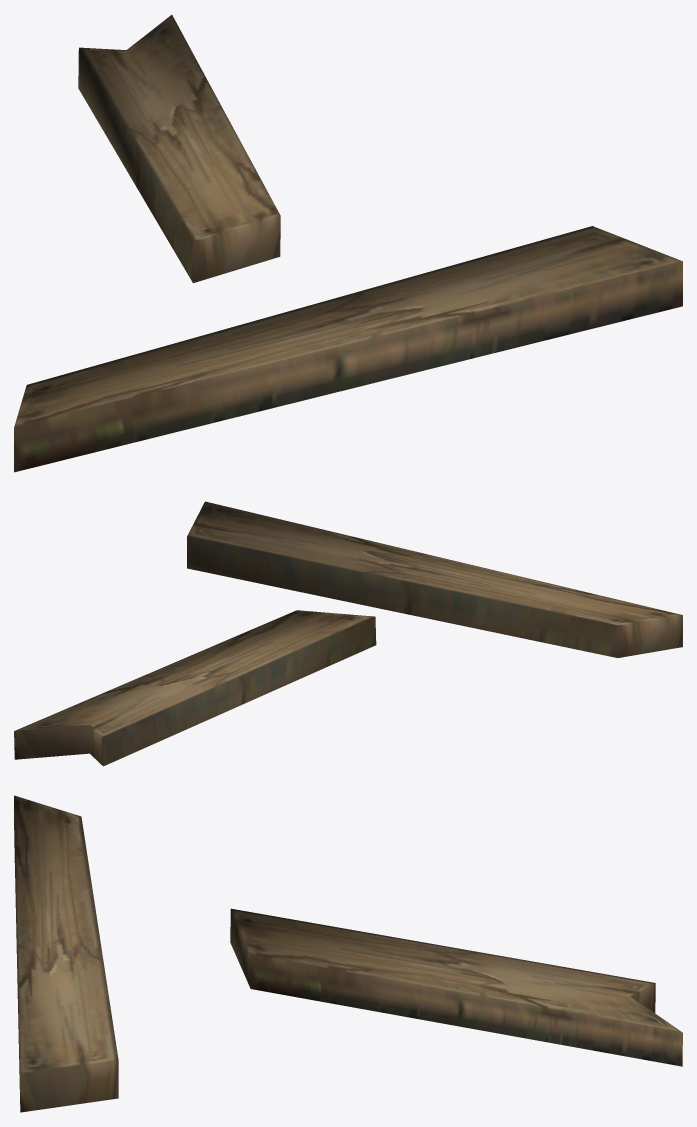
Rendered from S_Build_Cbcl097.FBX.
3 renders of one model, top to bottom at view 1: azimuth 30°, elevation 25°; view 2: azimuth 150°, elevation 25°; view 3: azimuth 270°, elevation 25°, orthographic. The views are drawn at different scales.
Visible parts, largest first — view 1: S_Build_Cbcl097; view 2: S_Build_Cbcl097; view 3: S_Build_Cbcl097.
Boxes of the visible parts, x1=… form: S_Build_Cbcl097: x1=14, y1=15, x2=682, y2=472; S_Build_Cbcl097: x1=14, y1=501, x2=682, y2=766; S_Build_Cbcl097: x1=14, y1=795, x2=682, y2=1112.
Size of the model in its own units: 259 by 263 by 24.72.
Materials: 1 (1 with a texture image).
